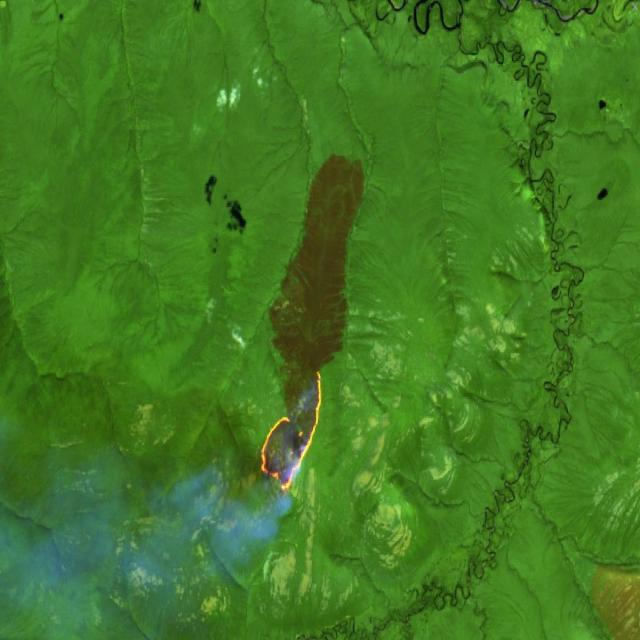fire: (245, 360, 338, 501)
